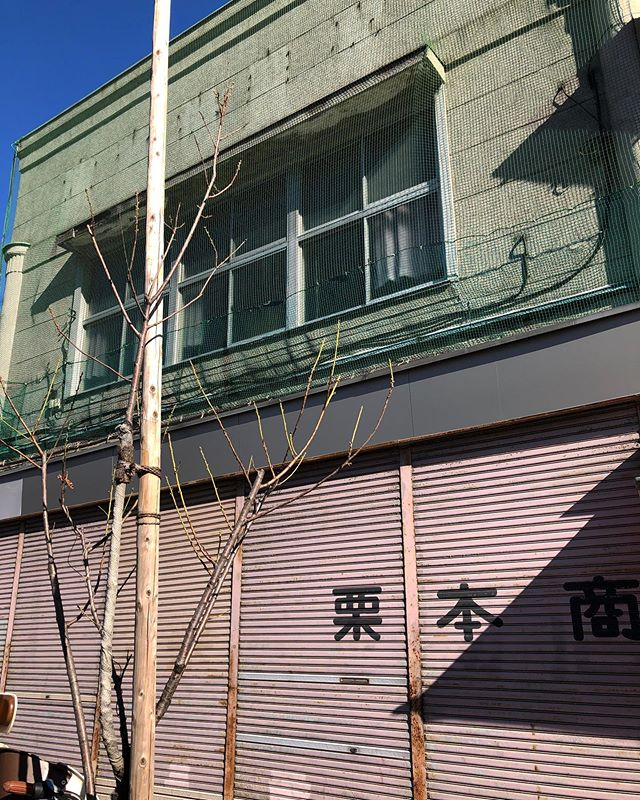building: (22, 49, 640, 800)
